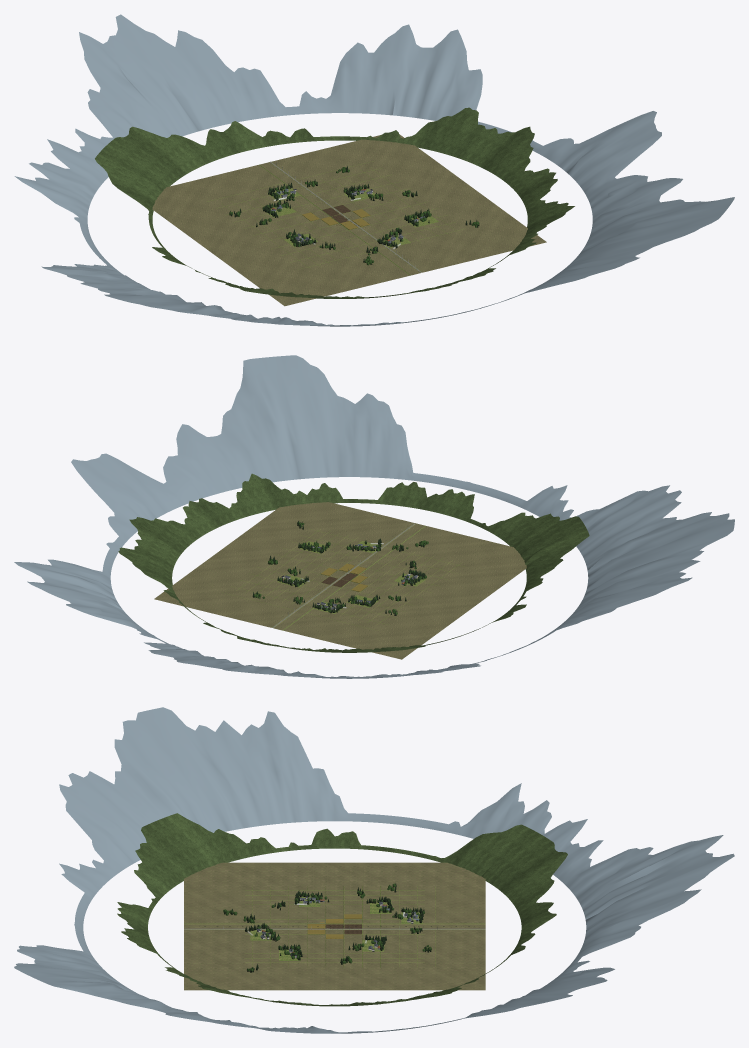
The model's file is field_tanbo_aki.glb.
The picture shows the model from 3 angles, top to bottom: view 1: azimuth 30°, elevation 25°; view 2: azimuth 150°, elevation 25°; view 3: azimuth 270°, elevation 25°; orthographic projection. The views are drawn at different scales.
Visible parts, largest first — view 1: Hills, Neighbors, Trees, Houses, NeighborsTilled, Levees; view 2: Hills, Neighbors, Trees, Houses, NeighborsTilled; view 3: Hills, Neighbors, Trees, Houses, Levees, NeighborsTilled.
Part boxes in pixels (x1,y1,x2,y2): Hills: (14,14,734,326); Neighbors: (152,134,546,306); Trees: (229,166,479,265); Houses: (264,188,438,249); NeighborsTilled: (302,205,370,229); Levees: (259,161,422,275); Hills: (14,355,734,678); Neighbors: (154,502,526,659); Trees: (252,521,428,615); Houses: (277,541,425,613); NeighborsTilled: (321,563,367,591); Hills: (14,707,734,1033); Neighbors: (184,862,485,990); Trees: (223,883,431,972); Houses: (247,895,422,960); Levees: (184,923,485,929); NeighborsTilled: (307,914,361,938).
Bounding box in the file's own units: 2031 × 201 × 2007.
Materials: 46 (14 with a texture image).
